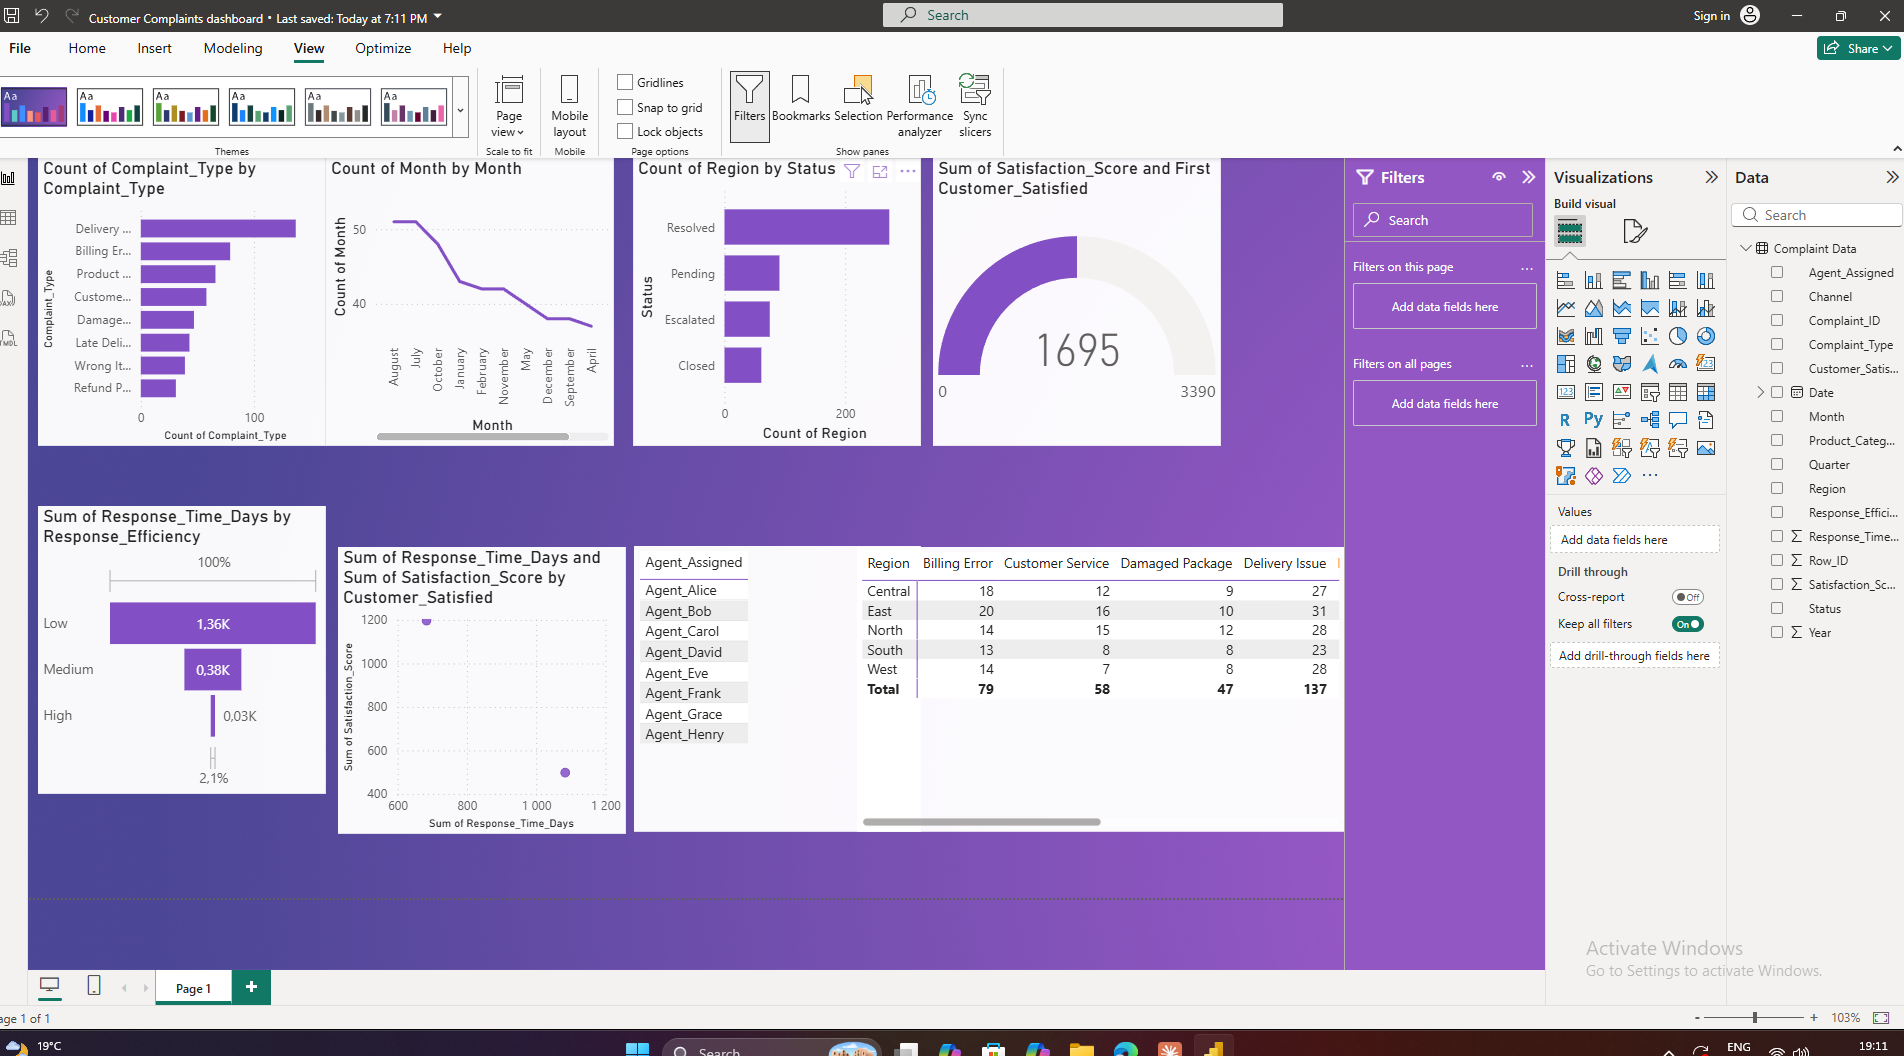

Layout of this report page (visuals, bound fields, positions):
{"tool":"powerbi","page":{"name":"Page 1","canvas":[1280,720],"ordinal":0},"visuals":[{"type":"barChart","fields":{"Category":["Complaint Data.Complaint_Type"],"Y":["CountNonNull(Complaint Data.Complaint_Type)"]},"box":[10,0,280,280],"z":0},{"type":"lineChart","fields":{"Category":["Complaint Data.Month"],"Y":["CountNonNull(Complaint Data.Month)"]},"box":[289.8,0,280.1,280.1],"z":1000},{"type":"barChart","fields":{"Y":["CountNonNull(Complaint Data.Region)"],"Category":["Complaint Data.Status"]},"box":[588.4,0,280.1,280.1],"z":2000},{"type":"gauge","fields":{"Y":["Sum(Complaint Data.Satisfaction_Score)"]},"box":[880.2,0,280.1,280.1],"z":3000},{"type":"funnel","fields":{"Category":["Complaint Data.Response_Efficiency","Complaint Data.Complaint_Type"],"Y":["Sum(Complaint Data.Response_Time_Days)"]},"box":[9.7,338.5,280.1,280.1],"z":4000},{"type":"scatterChart","fields":{"X":["Sum(Complaint Data.Response_Time_Days)"],"Y":["Sum(Complaint Data.Satisfaction_Score)"],"Category":["Complaint Data.Customer_Satisfied"]},"box":[301.5,378.4,280.1,279.1],"z":5000},{"type":"tableEx","fields":{"Values":["Complaint Data.Agent_Assigned"]},"box":[589.4,377.4,279.1,278.2],"z":6000},{"type":"pivotTable","fields":{"Columns":["Complaint Data.Complaint_Type"],"Rows":["Complaint Data.Region"],"Values":["CountNonNull(Complaint Data.Region)"]},"box":[806.3,378.4,473.7,277.2],"z":7000}]}

Visuals, with their boxes on the page's 1280x720 design canvas (x1, y1, x2, y2). These are canvas units, not pixel positions in the 1904x1056 screenshot, which may show the page scaled, cropped or inside an application window:
barChart - Complaint Data.Complaint_Type x CountNonNull(Complaint Data.Complaint_Type): [10, 0, 290, 280]
lineChart - Complaint Data.Month x CountNonNull(Complaint Data.Month): [290, 0, 570, 280]
barChart - CountNonNull(Complaint Data.Region) x Complaint Data.Status: [588, 0, 868, 280]
gauge - Sum(Complaint Data.Satisfaction_Score): [880, 0, 1160, 280]
funnel - Complaint Data.Response_Efficiency x Complaint Data.Complaint_Type: [10, 338, 290, 619]
scatterChart - Sum(Complaint Data.Response_Time_Days) x Sum(Complaint Data.Satisfaction_Score): [302, 378, 582, 658]
tableEx - Complaint Data.Agent_Assigned: [589, 377, 868, 656]
pivotTable - Complaint Data.Complaint_Type x Complaint Data.Region: [806, 378, 1280, 656]
